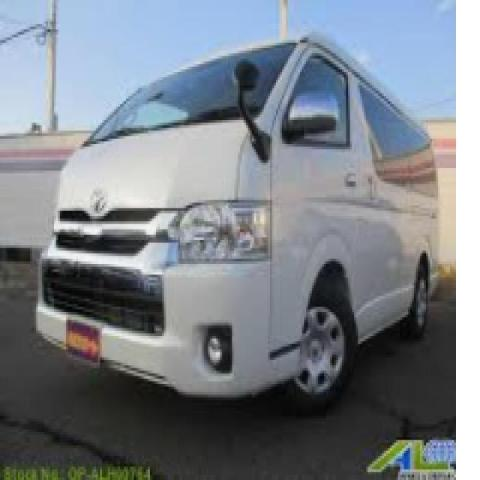van: (36, 32, 442, 406)
